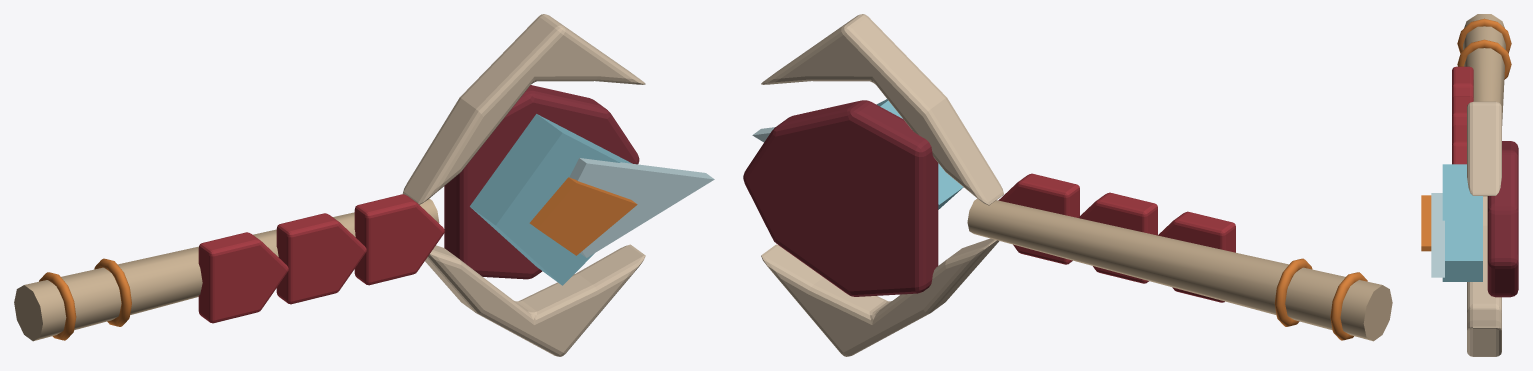
File: wpn_wyrmfire.glb
3 views of the same model, side by side, from view 1: azimuth 30°, elevation 25°; view 2: azimuth 150°, elevation 25°; view 3: azimuth 270°, elevation 25° (orthographic). The views are drawn at different scales.
Visible parts, largest first — view 1: object 1, torus.001, torus; view 2: object 1, torus.001, torus; view 3: object 1, torus.001, torus.
Part boxes in pixels (x1=…): object 1: x1=14, y1=14, x2=714, y2=356; torus.001: x1=94, y1=258, x2=131, y2=326; torus: x1=39, y1=272, x2=76, y2=340; object 1: x1=743, y1=14, x2=1392, y2=356; torus.001: x1=1274, y1=258, x2=1312, y2=326; torus: x1=1330, y1=272, x2=1367, y2=340; object 1: x1=1421, y1=14, x2=1518, y2=356; torus.001: x1=1457, y1=39, x2=1511, y2=79; torus: x1=1457, y1=18, x2=1511, y2=53.
Size of the model in its own units: 1.17 by 0.567 by 0.1962.
